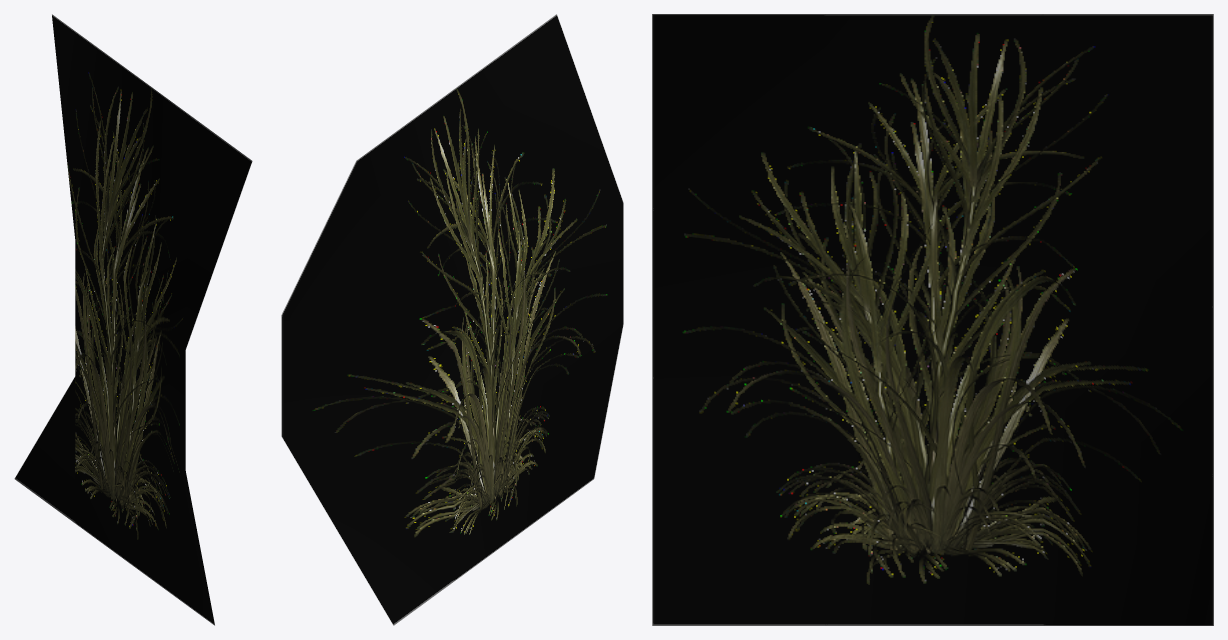
Rendered from Grass_4.fbx.
3 views of the same model, side by side, from view 1: azimuth 30°, elevation 25°; view 2: azimuth 150°, elevation 25°; view 3: azimuth 270°, elevation 25° (orthographic). The views are drawn at different scales.
Visible parts, largest first — view 1: pPlane2; view 2: pPlane2; view 3: pPlane2.
Boxes of the visible parts, bbox=[...] form: pPlane2: bbox=[14, 14, 252, 625]; pPlane2: bbox=[281, 14, 623, 625]; pPlane2: bbox=[652, 14, 1213, 625].
Bounding box in the file's own units: 1.81 × 5.55 × 4.43.
